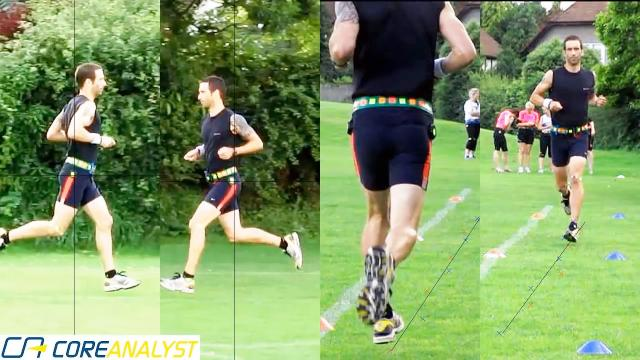berlari: (321, 0, 484, 352), (1, 58, 148, 296), (162, 66, 310, 296), (529, 27, 611, 253)
